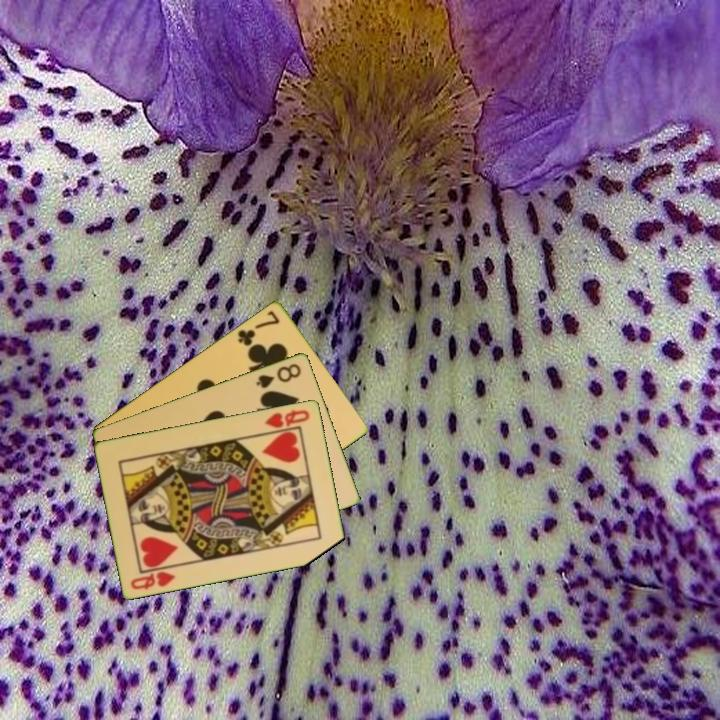7c: (234, 307, 283, 349)
8s: (252, 360, 304, 391)
Qh: (127, 567, 179, 592), (261, 406, 312, 431)
